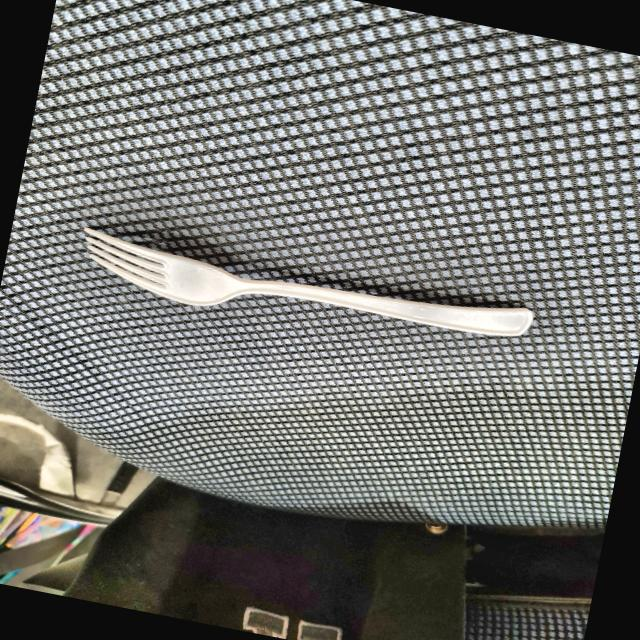plastic utensil: (77, 212, 548, 374)
